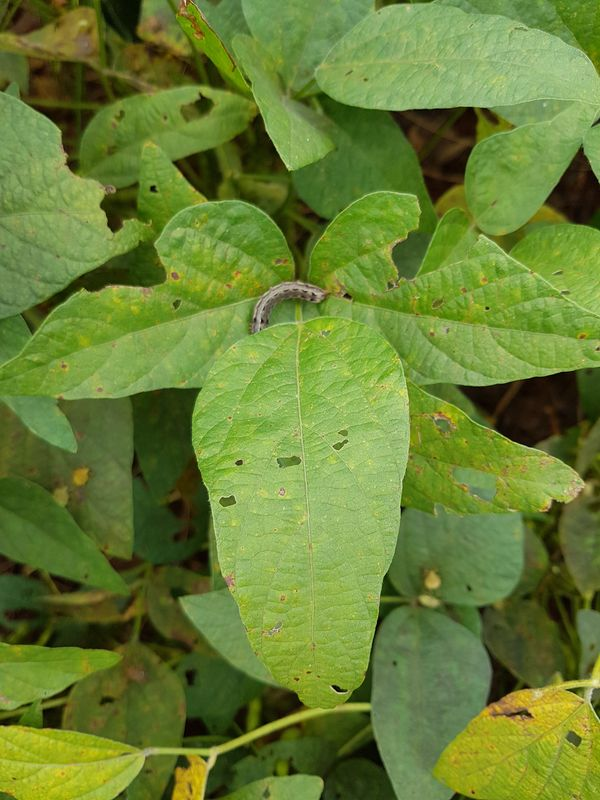Spodoptera_albula: (237, 271, 337, 346)
